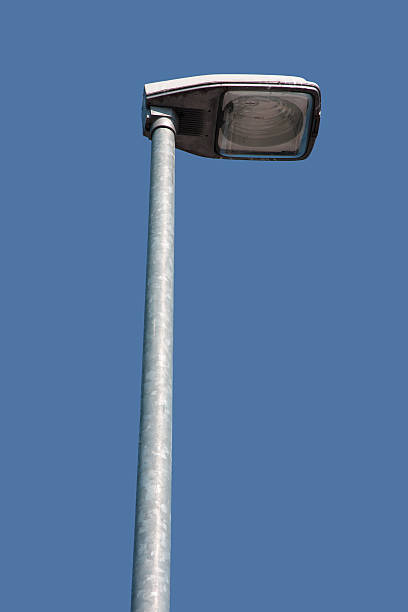light_pole: (130, 139, 171, 610)
